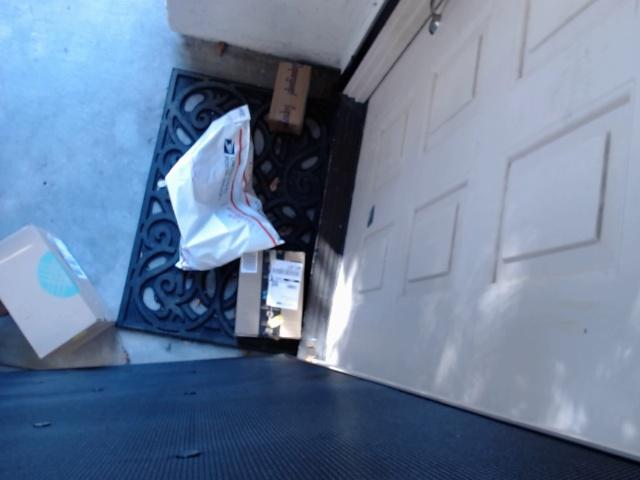box: (0, 221, 126, 367), (230, 238, 312, 362), (256, 44, 321, 150)
plastic_bag: (150, 114, 282, 268)
